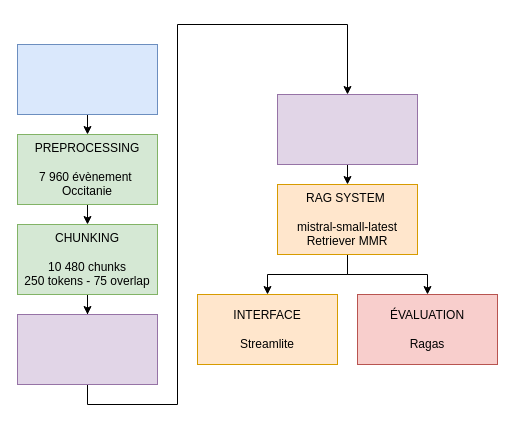
The diagram is 515 pixels wide and 430 high, and some of its shapes have lost their labels. The shapes that lost their labels are listed below. From the top down, each one's centre as x and y in pixels, then its label:
At point (87, 79): "SOURCE Open Agenda 913 818 évènements".
At point (347, 129): "INDEX FAISS IndexFlatIP".
At point (87, 349): "VECTORISATION 10 480 embeddings 1024 dimentions".
